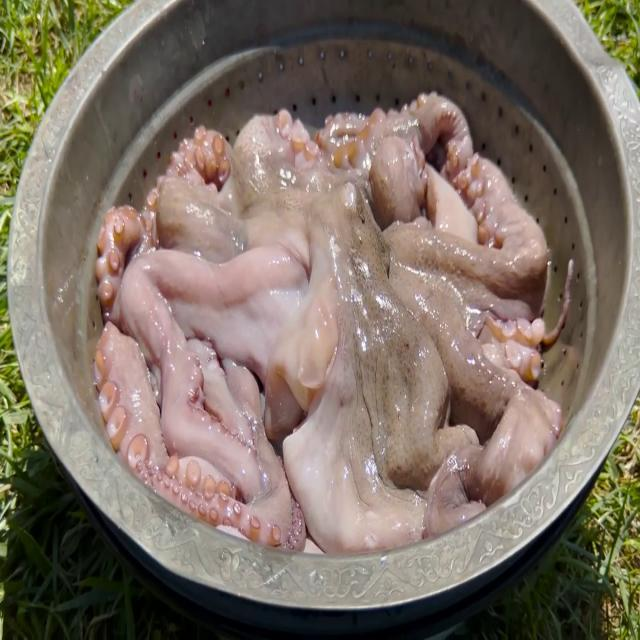octopus: (81, 66, 574, 544)
